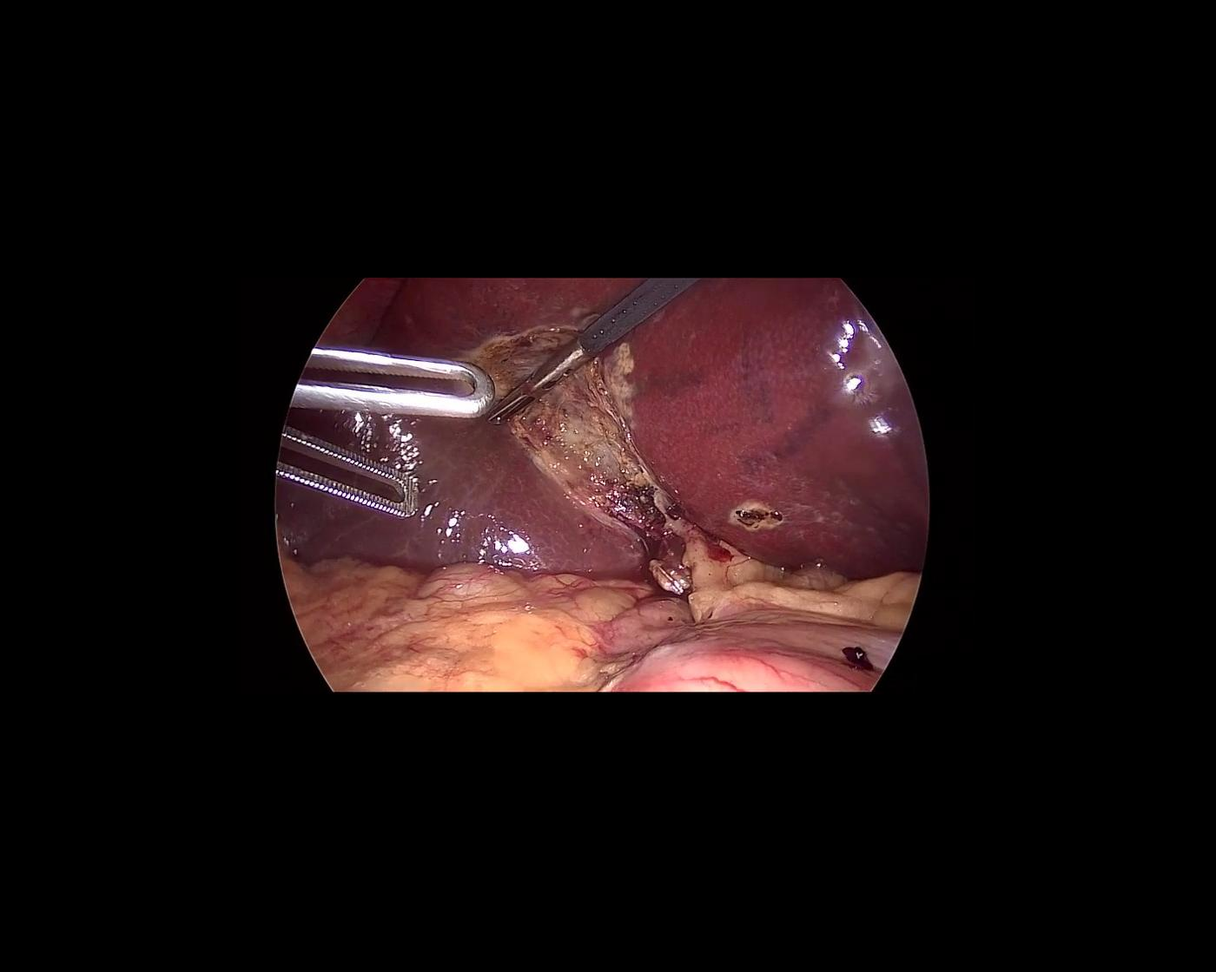Forceps: (475, 252, 702, 432), (290, 343, 498, 430), (266, 426, 430, 534)
Liver: (276, 278, 929, 579)
